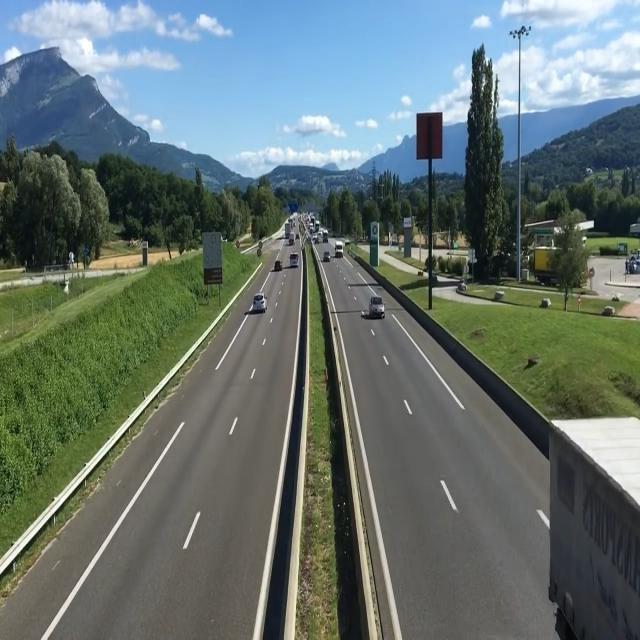Bus: (289, 252, 299, 268)
Car: (368, 295, 386, 318), (252, 291, 268, 312), (322, 250, 331, 262), (275, 260, 282, 271)
Truck: (546, 410, 640, 640), (335, 241, 344, 257), (284, 223, 290, 239)
